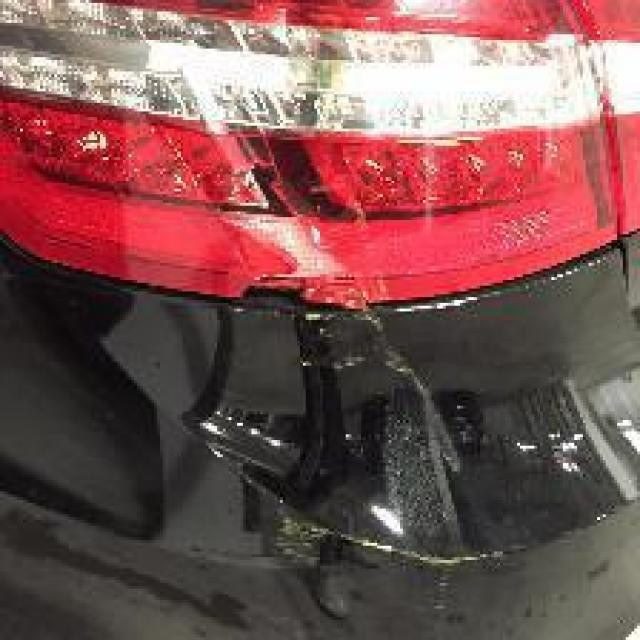damaged: (180, 142, 520, 578)
